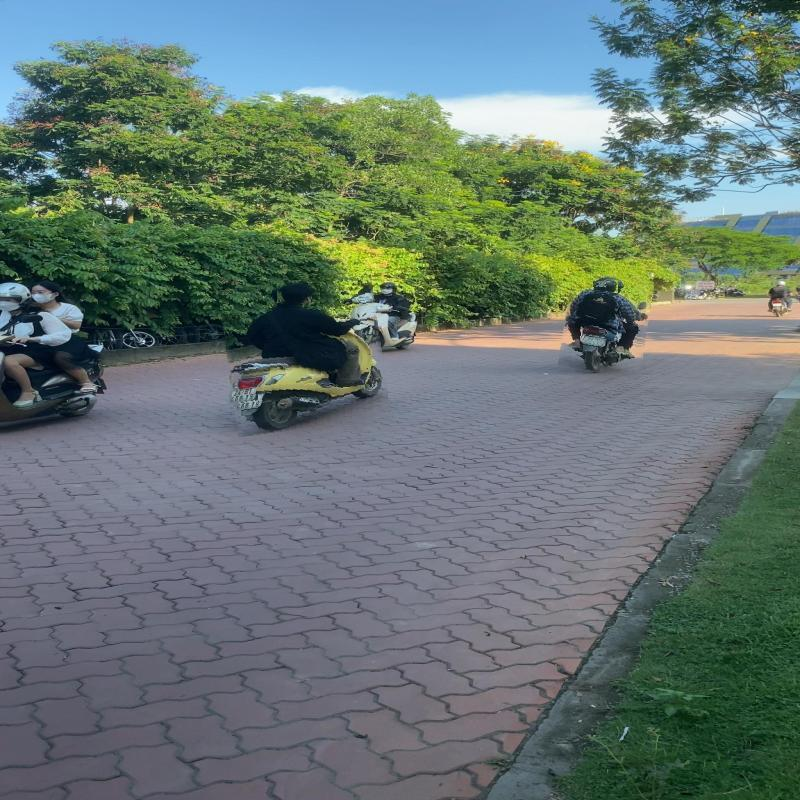helmet: (593, 280, 618, 293)
licenseplate: (228, 387, 258, 402), (582, 336, 608, 348)
motorcyclist: (223, 276, 387, 432), (560, 274, 650, 376)
nohelmet: (277, 280, 320, 306)
